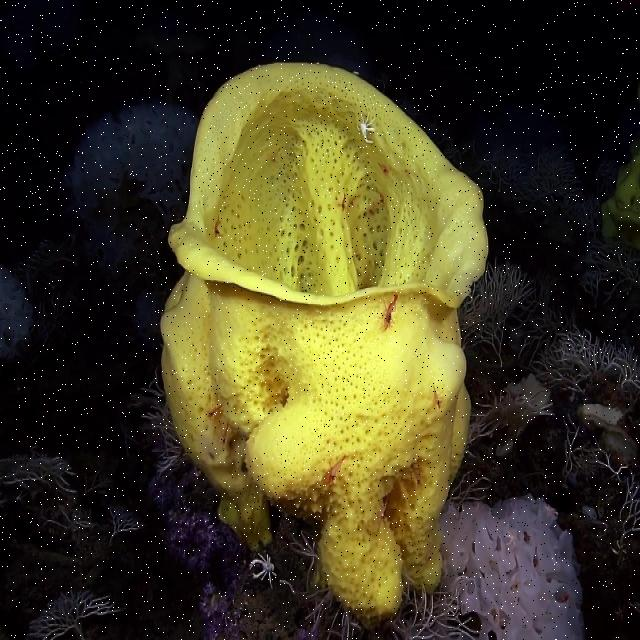reefs: (160, 59, 490, 619), (443, 494, 584, 639), (247, 552, 277, 589), (355, 110, 377, 148)
